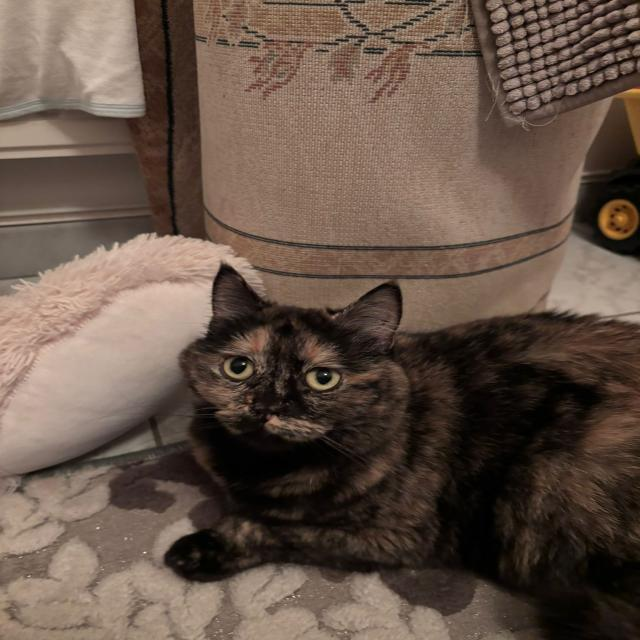authorized: (163, 260, 639, 639)
